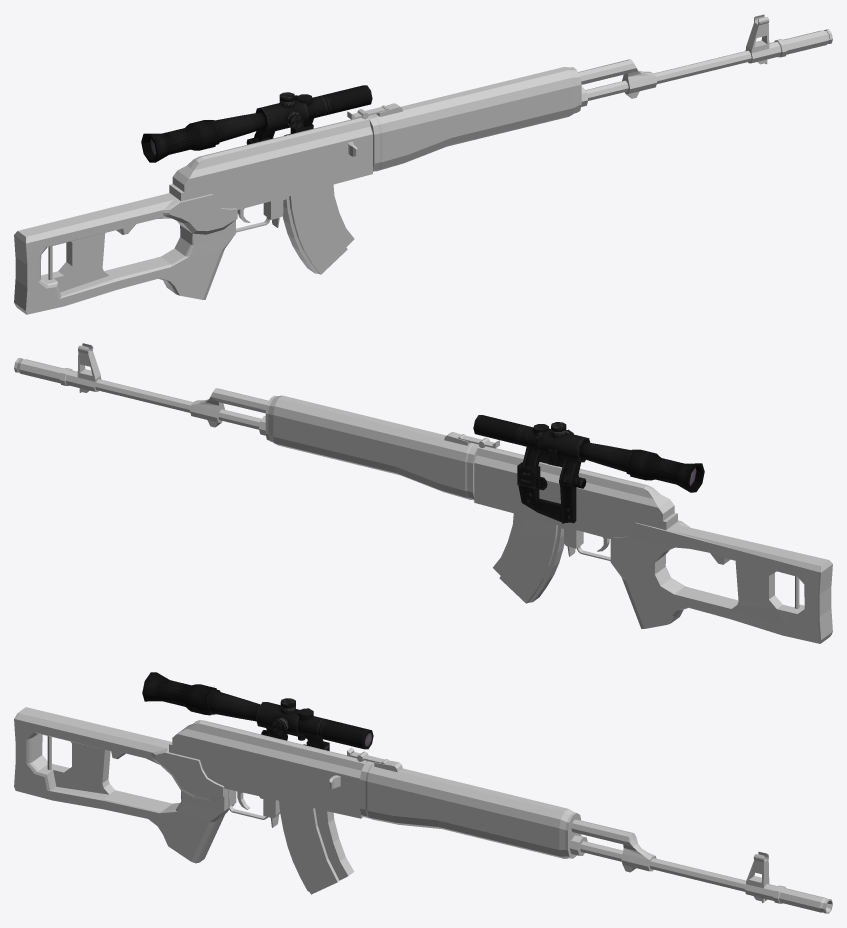
The model's file is SVD_2.FBX.
The picture shows the model from 3 angles, top to bottom: view 1: azimuth 30°, elevation 25°; view 2: azimuth 150°, elevation 25°; view 3: azimuth 330°, elevation 25°; orthographic projection.
Visible parts, largest first — view 1: SVD, OPTICS, MAG; view 2: SVD, OPTICS, MAG; view 3: SVD, OPTICS, MAG.
Boxes of the visible parts, <box> form: SVD: <box>14,14,832,314</box>; OPTICS: <box>141,85,372,162</box>; MAG: <box>282,184,354,274</box>; SVD: <box>14,343,832,643</box>; OPTICS: <box>473,415,704,523</box>; MAG: <box>492,513,564,603</box>; SVD: <box>14,707,832,913</box>; OPTICS: <box>142,672,373,750</box>; MAG: <box>279,800,354,894</box>.
Size of the model in its own units: 493 by 106 by 26.08.
